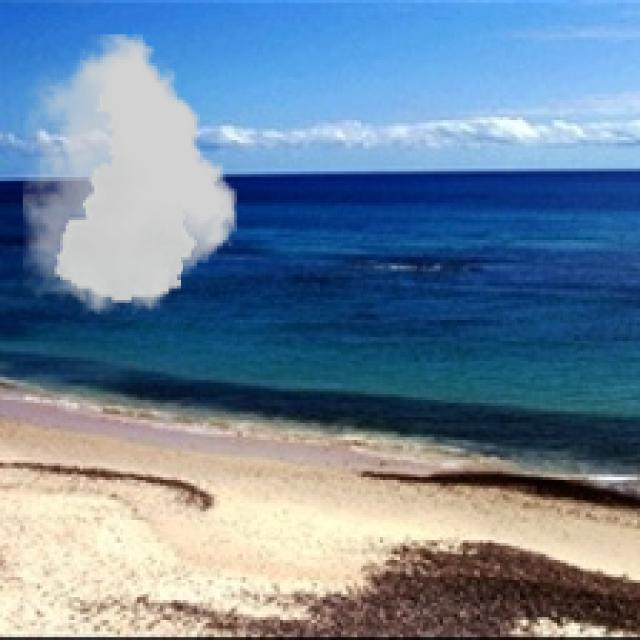Smoke: (22, 34, 238, 314)
